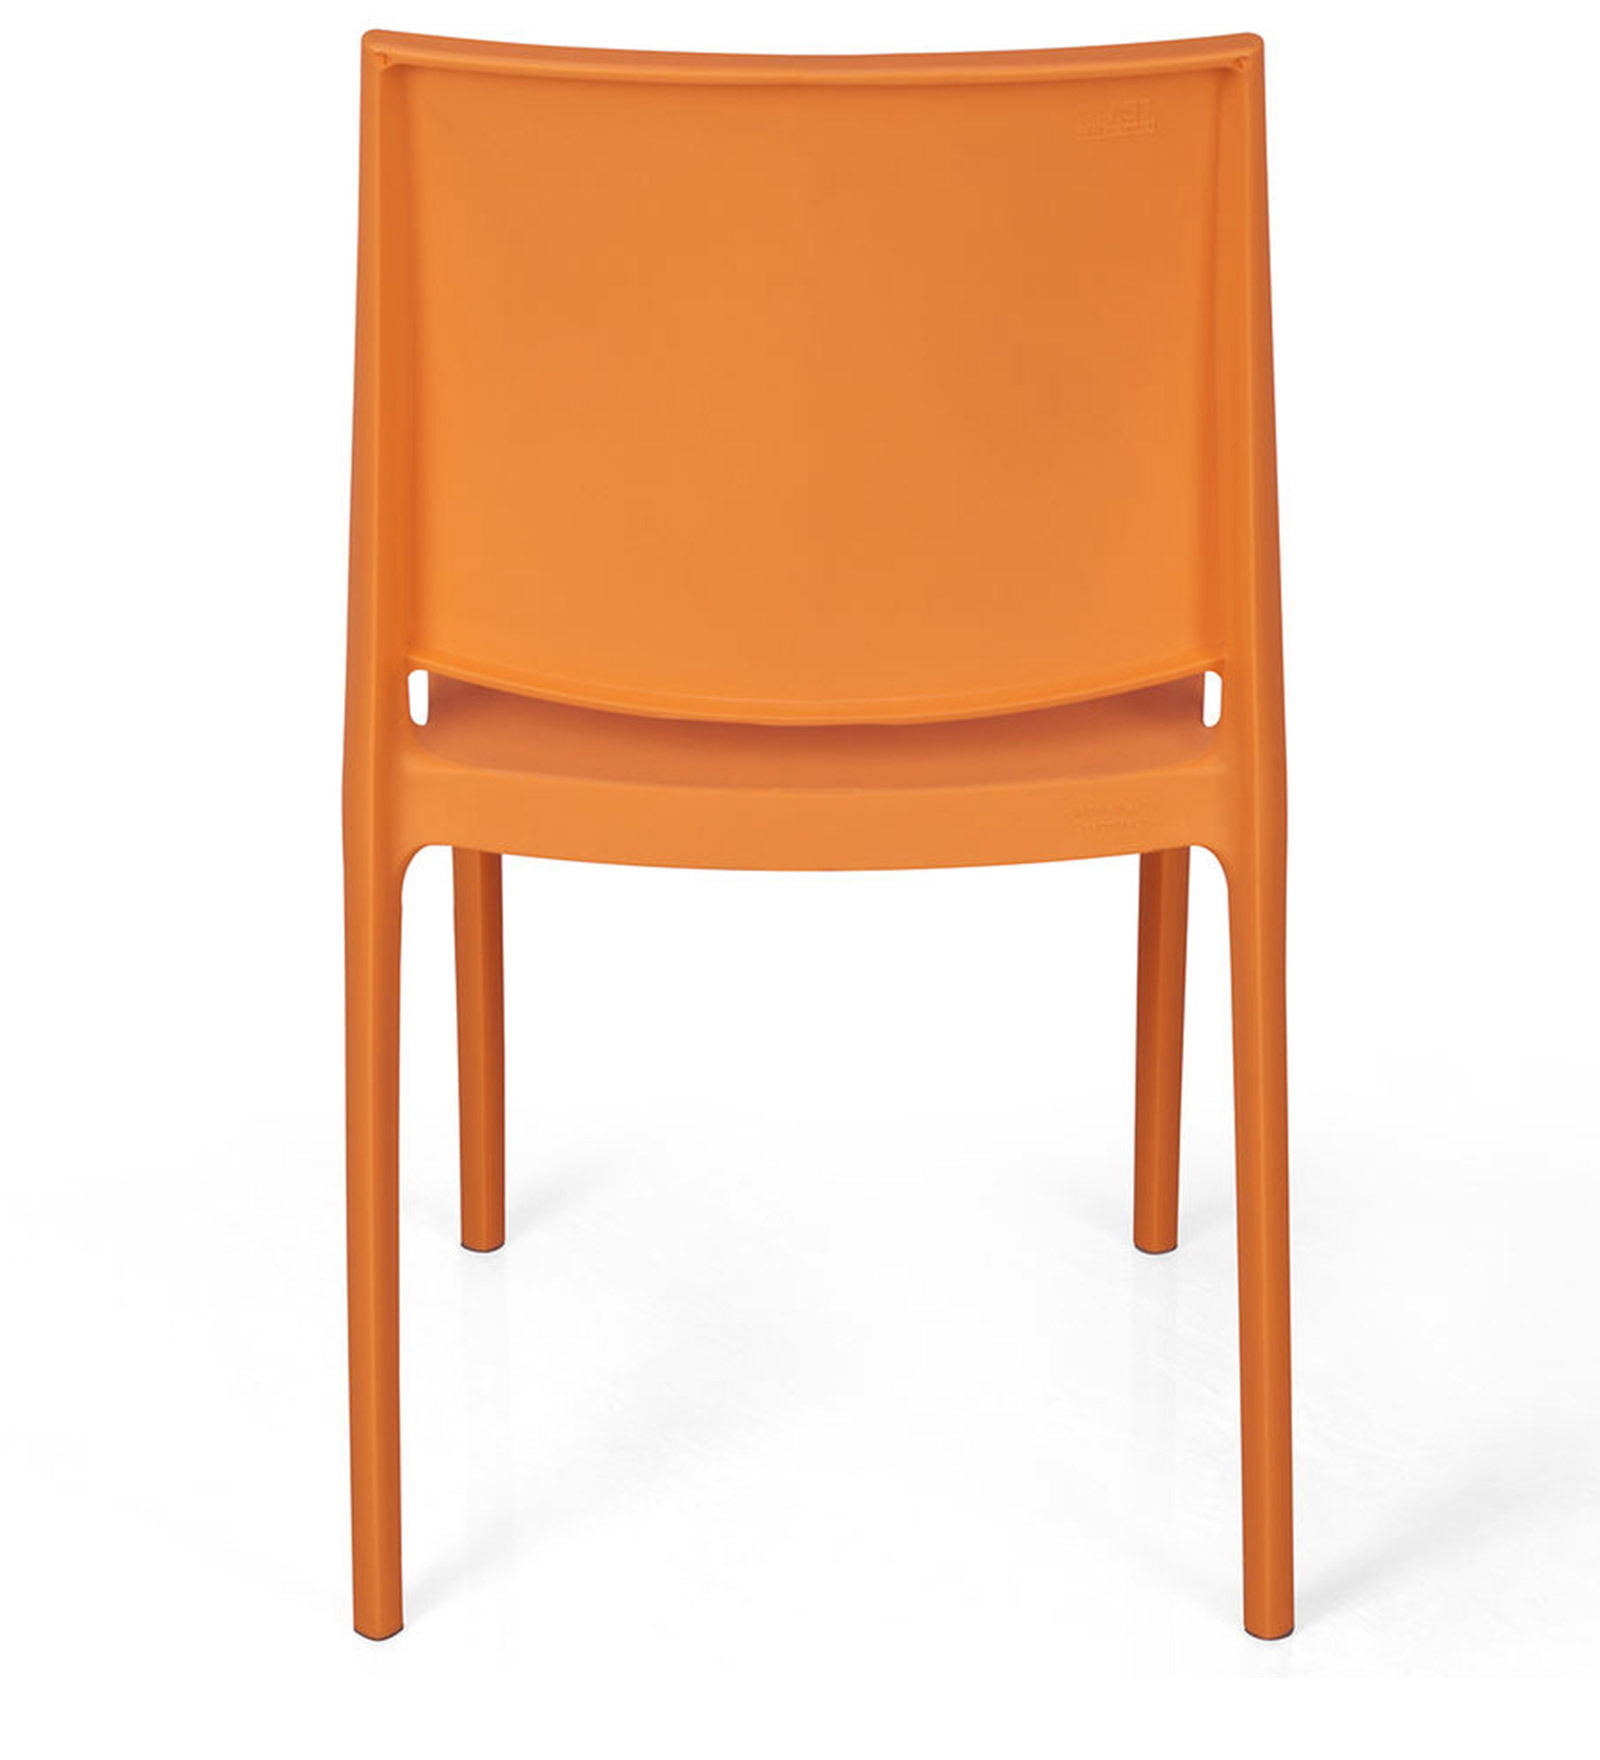Novella Series - 8 Chair (Set of 2) in Orange Colour by Nilkamal: (331, 17, 1306, 1650)
